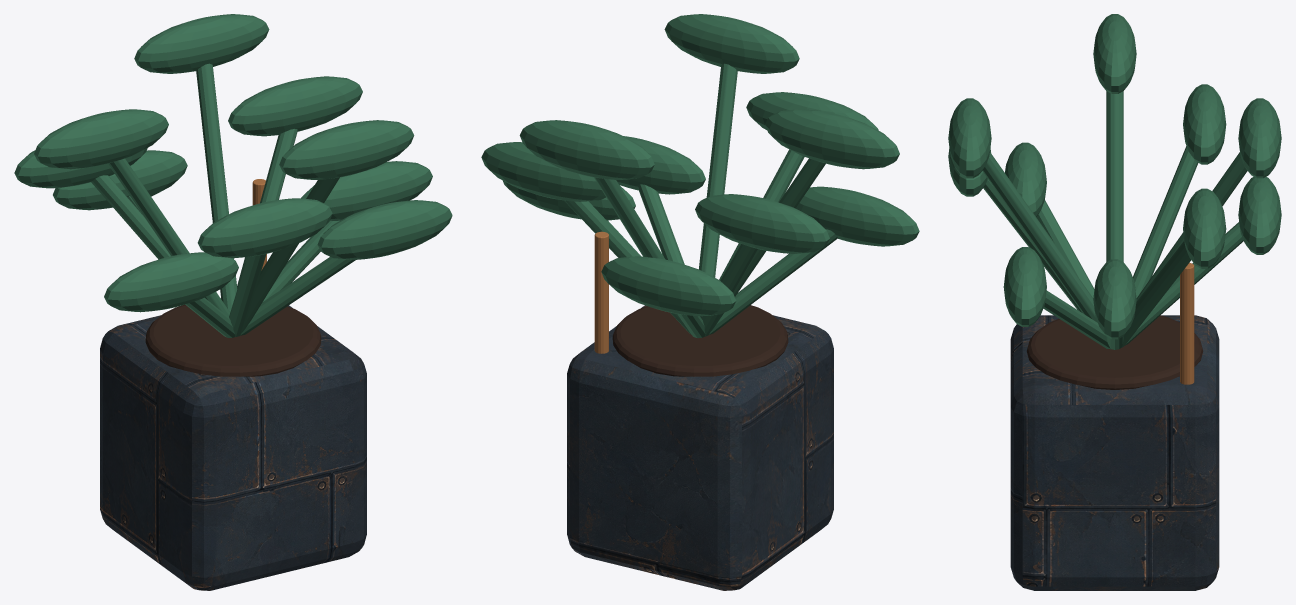
File: APT_Prop_Planter_Teal.glb
3 renders of one model, left to right at view 1: azimuth 30°, elevation 25°; view 2: azimuth 150°, elevation 25°; view 3: azimuth 270°, elevation 25°, orthographic.
Visible parts, largest first — view 1: Planter_Pot, Planter_Soil, Planter_Leaf_5, Planter_Leaf_8, Planter_Leaf_9, Planter_Leaf_7, Planter_Leaf_1, Planter_Leaf_2, Planter_Leaf_6, Planter_Leaf_0, Planter_Stem_2, Planter_Leaf_3 (+9 smaller); view 2: Planter_Pot, Planter_Soil, Planter_Leaf_2, Planter_Leaf_5, Planter_Leaf_4, Planter_Leaf_3, Planter_Leaf_8, Planter_Leaf_6, Planter_Leaf_1, Planter_Stem_8, Planter_Leaf_9, Planter_Leaf_7 (+9 smaller); view 3: Planter_Pot, Planter_Soil, Planter_Stem_8, Planter_Stem_5, Planter_Leaf_2, Planter_Leaf_8, Planter_Leaf_0, Planter_Leaf_1, Planter_Leaf_4, Planter_Leaf_9, Planter_Leaf_5, Planter_Leaf_3 (+10 smaller).
Part boxes in pixels (left/top/right/bottom): Planter_Pot: left=100, top=305, right=366, bottom=590; Planter_Soil: left=145, top=304, right=321, bottom=376; Planter_Leaf_5: left=34, top=109, right=168, bottom=169; Planter_Leaf_8: left=279, top=120, right=414, bottom=179; Planter_Leaf_9: left=317, top=200, right=452, bottom=259; Planter_Leaf_7: left=197, top=198, right=332, bottom=258; Planter_Leaf_1: left=228, top=76, right=362, bottom=136; Planter_Leaf_2: left=134, top=14, right=269, bottom=73; Planter_Leaf_6: left=104, top=252, right=238, bottom=312; Planter_Leaf_0: left=301, top=161, right=432, bottom=220; Planter_Stem_2: left=196, top=63, right=237, bottom=311; Planter_Leaf_3: left=53, top=150, right=187, bottom=210; Planter_Pot: left=567, top=305, right=833, bottom=590; Planter_Soil: left=612, top=305, right=788, bottom=376; Planter_Leaf_2: left=519, top=120, right=654, bottom=179; Planter_Leaf_5: left=765, top=109, right=899, bottom=169; Planter_Leaf_4: left=695, top=194, right=829, bottom=253; Planter_Leaf_3: left=601, top=256, right=736, bottom=316; Planter_Leaf_8: left=664, top=14, right=799, bottom=73; Planter_Leaf_6: left=795, top=186, right=919, bottom=246; Planter_Leaf_1: left=481, top=142, right=605, bottom=201; Planter_Stem_8: left=699, top=63, right=737, bottom=277; Planter_Leaf_9: left=616, top=136, right=705, bottom=194; Planter_Leaf_7: left=746, top=92, right=878, bottom=130; Planter_Pot: left=1010, top=315, right=1219, bottom=590; Planter_Soil: left=1026, top=315, right=1203, bottom=389; Planter_Stem_8: left=982, top=152, right=1097, bottom=322; Planter_Stem_5: left=1106, top=91, right=1123, bottom=261; Planter_Leaf_2: left=1238, top=98, right=1281, bottom=178; Planter_Leaf_8: left=948, top=98, right=991, bottom=178; Planter_Leaf_0: left=1093, top=259, right=1136, bottom=339; Planter_Leaf_1: left=1183, top=188, right=1226, bottom=268; Planter_Leaf_4: left=1183, top=84, right=1226, bottom=164; Planter_Leaf_9: left=1003, top=247, right=1046, bottom=326; Planter_Leaf_5: left=1093, top=14, right=1136, bottom=93; Planter_Leaf_3: left=1238, top=176, right=1281, bottom=254.
Size of the model in its own units: 1.14 by 1.27 by 0.8308.
4 materials, 1 textured.
